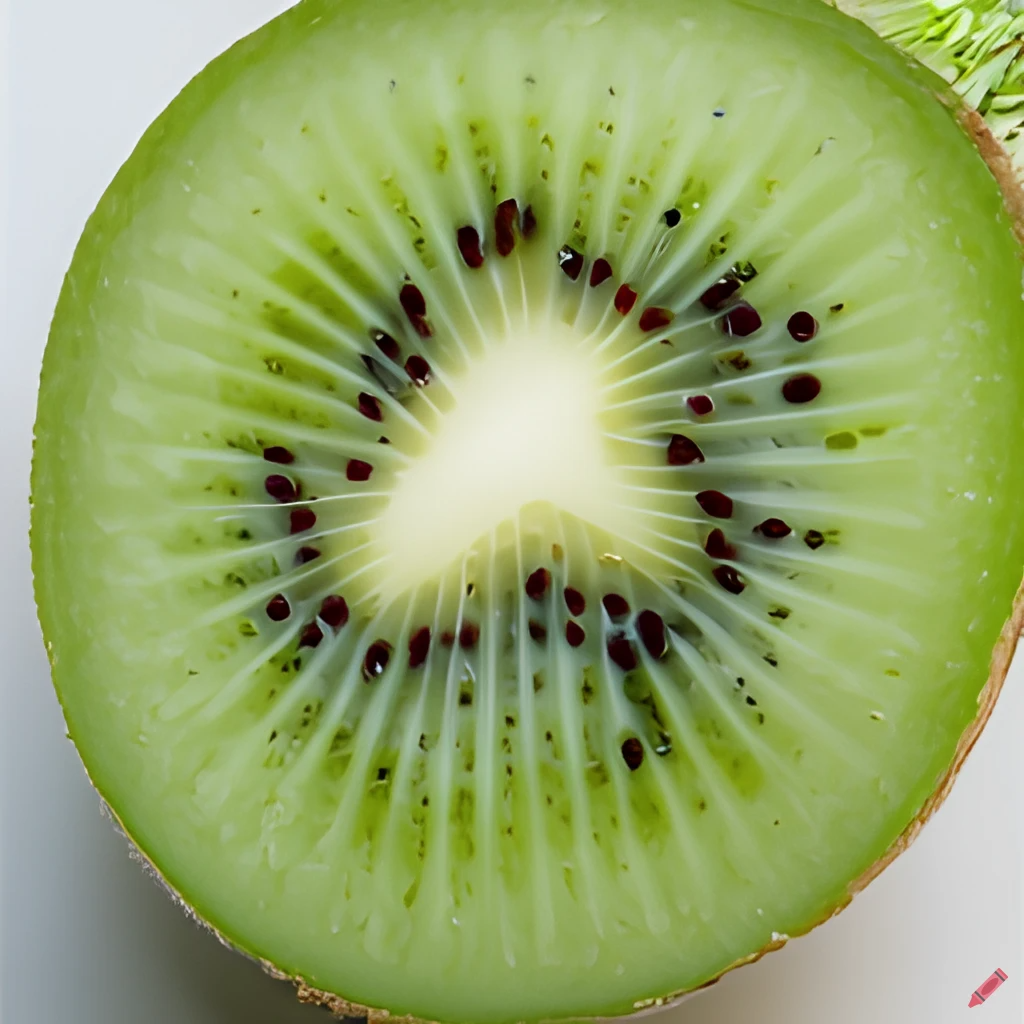Kiwi: (38, 0, 1006, 1024)
